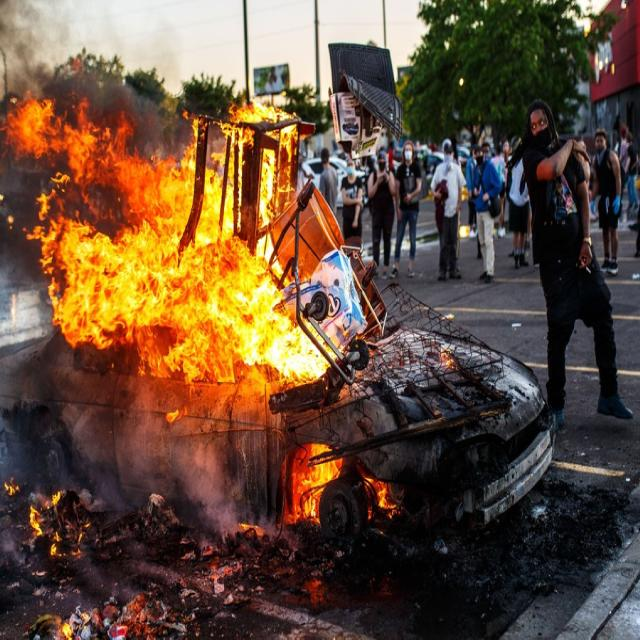fire: (26, 212, 330, 384), (156, 103, 298, 249), (0, 91, 137, 214), (239, 442, 397, 542), (31, 483, 92, 564), (61, 592, 158, 640), (330, 329, 374, 383)
